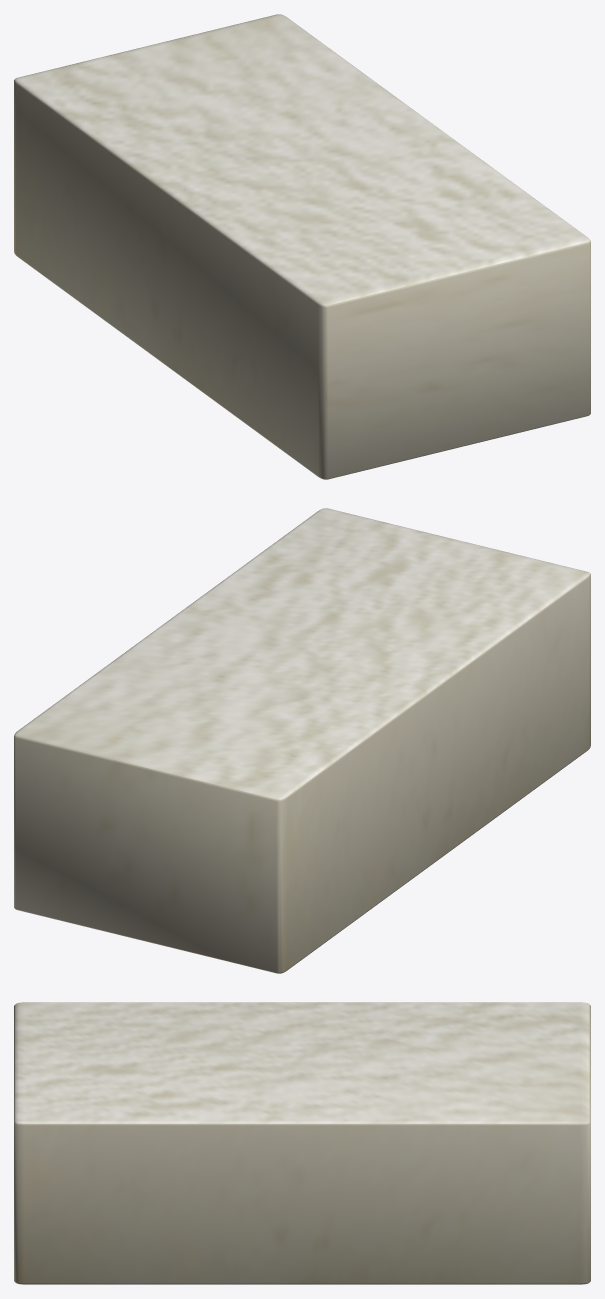
The model's file is tofu.fbx.
3 views of the same model, one above another, from view 1: azimuth 30°, elevation 25°; view 2: azimuth 150°, elevation 25°; view 3: azimuth 270°, elevation 25° (orthographic). The views are drawn at different scales.
Visible parts, largest first — view 1: Tofu; view 2: Tofu; view 3: Tofu.
Boxes of the visible parts, bbox=[...] form: Tofu: bbox=[14, 14, 590, 479]; Tofu: bbox=[14, 508, 590, 973]; Tofu: bbox=[14, 1002, 590, 1284].
Bounding box in the file's own units: 9.8 × 6.12 × 19.6.
Materials: 1 (1 with a texture image).
